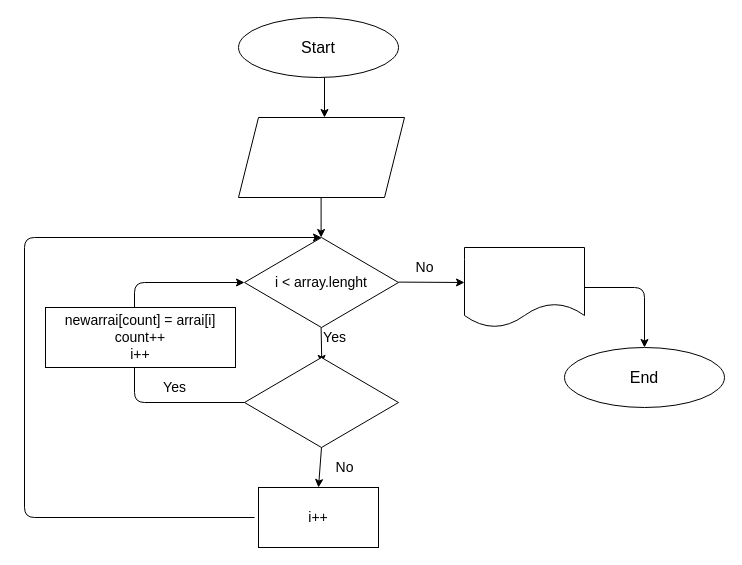
Image size: 742x565. Some labels were removed from this diagram. The centre of each missing label's shape, as x and y in pixels:
"array newarray count = 0 i = 0" goes at point (321, 157).
"array[i].lenght < 3" goes at point (321, 402).
"newarray" goes at point (524, 287).
